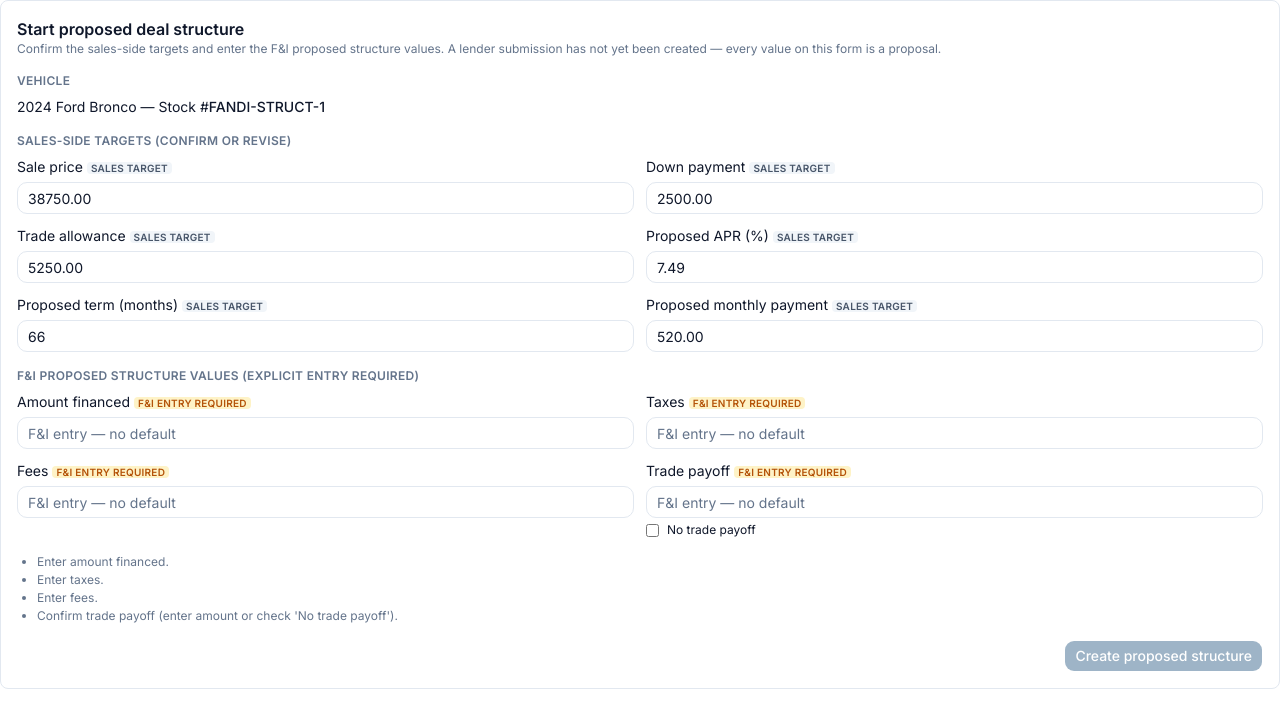
Test: DealStructureForm — submit gate › accepts explicit 0 as a valid confirmed value (blank ≠ 0)
Type "0" into the field with test id "deal-structure-form-field-amount-financed".
click(326, 433); type("0")  # box [17,417,634,449]
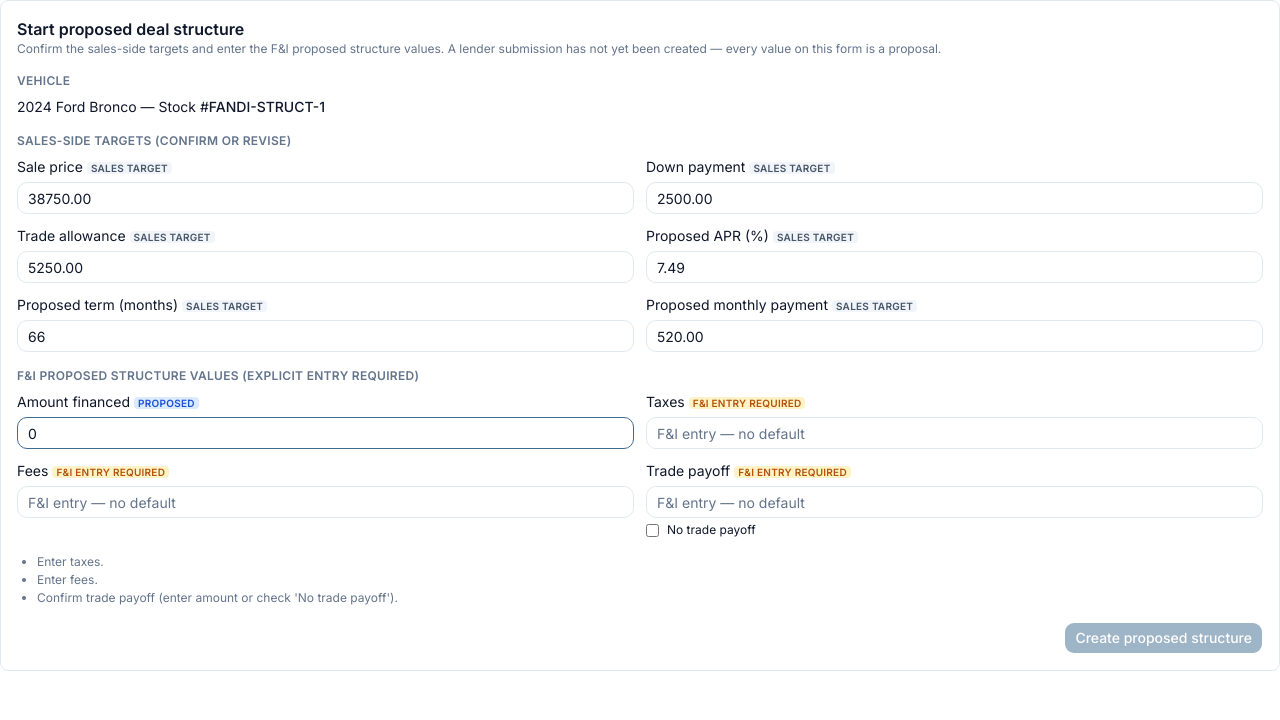
Type "0" into the field with test id "deal-structure-form-field-taxes".
click(954, 433); type("0")  # box [646,417,1263,449]
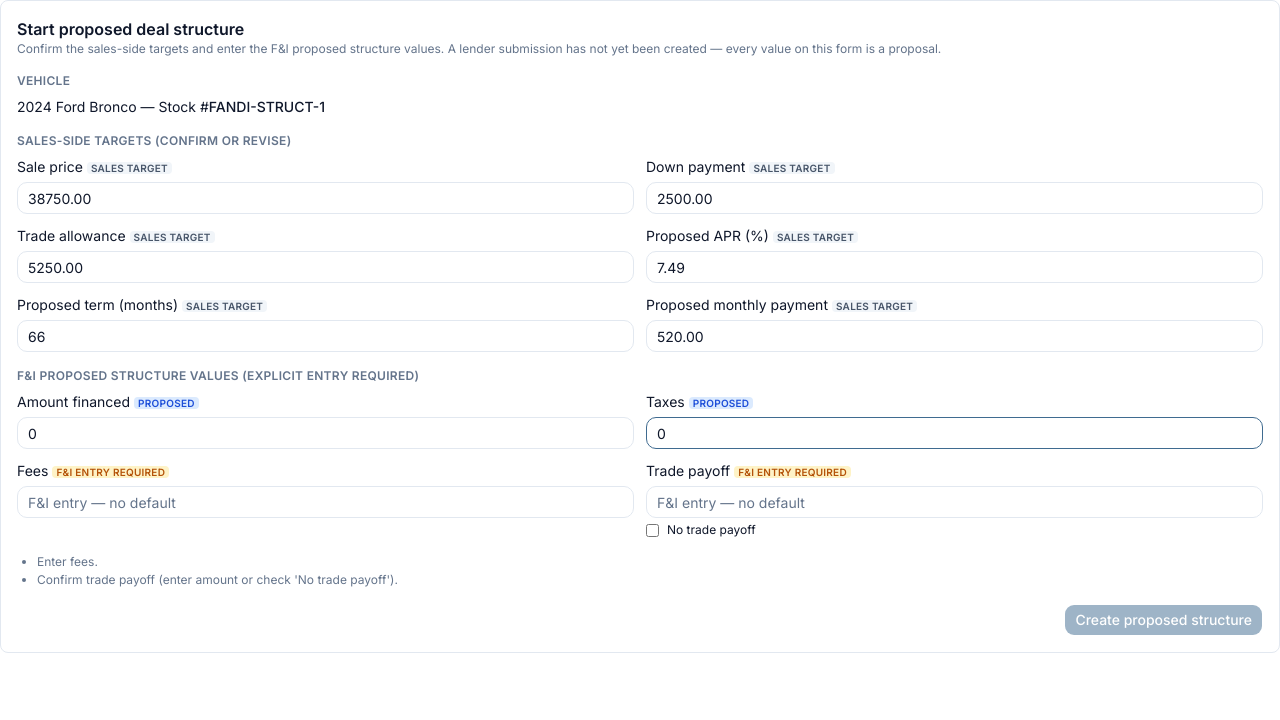
Type "0" into the field with test id "deal-structure-form-field-fees".
click(326, 502); type("0")  # box [17,486,634,518]
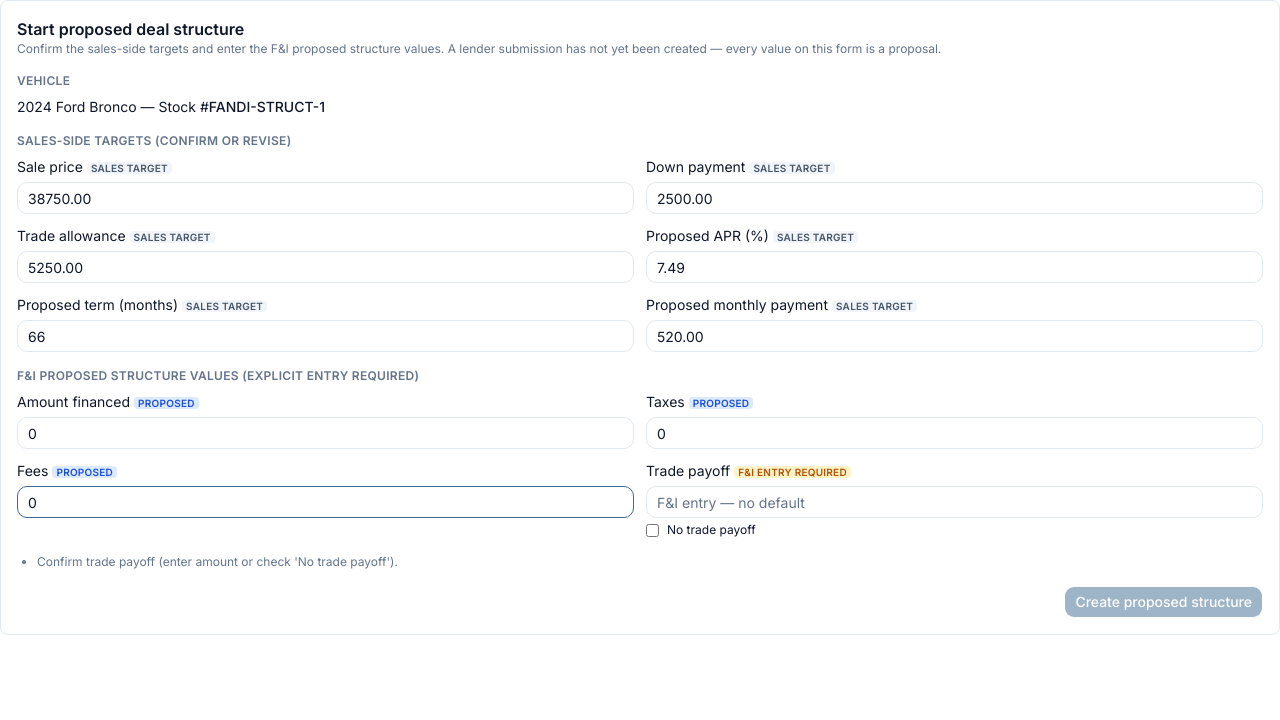
Click the checkbox with test id "deal-structure-form-field-no-trade-payoff".
click(652, 530)  # box [646,524,659,536]
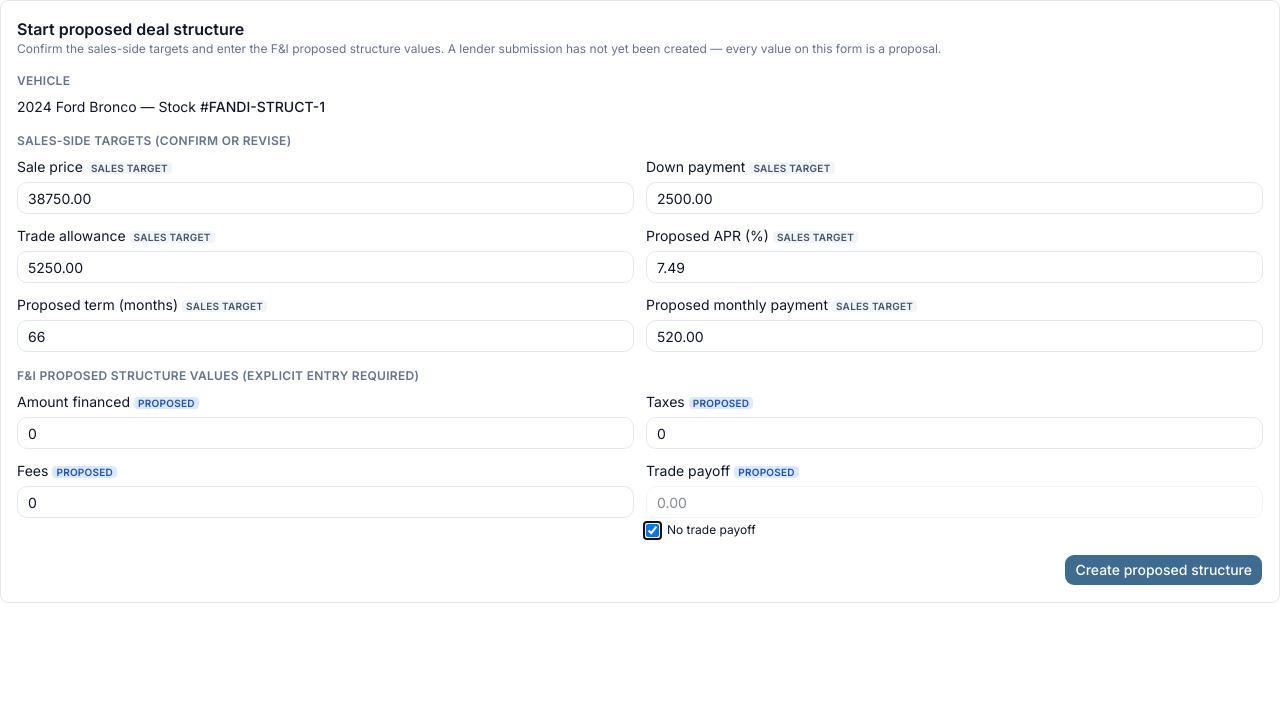
Now the button with test id "deal-structure-form-submit" is enabled, box [1064,554,1263,586]
